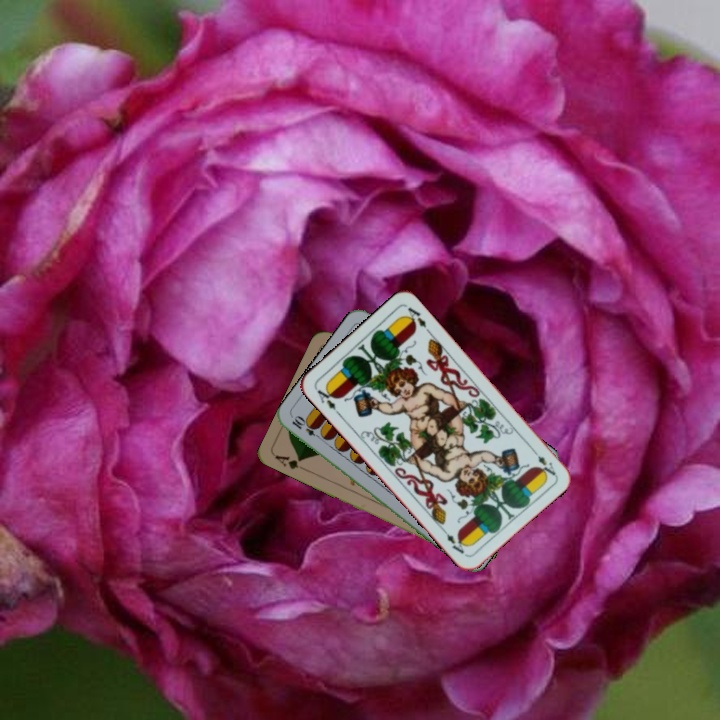E10: (288, 413, 325, 442)
EA: (311, 383, 343, 417), (527, 445, 559, 478)
GA: (271, 451, 310, 474)
